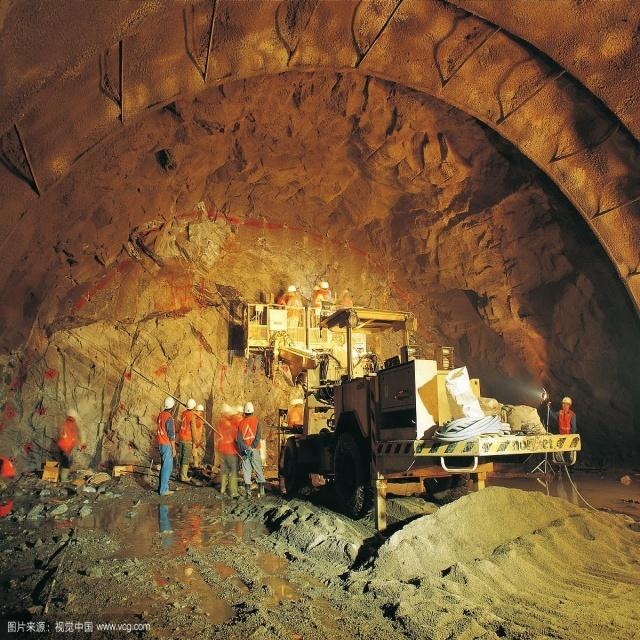helmet: (163, 525, 174, 548), (561, 527, 572, 548), (243, 533, 253, 555), (185, 531, 196, 549), (288, 377, 297, 396), (320, 374, 329, 389), (195, 538, 203, 554)
vest: (178, 550, 199, 594), (242, 558, 263, 602), (157, 548, 175, 599)
